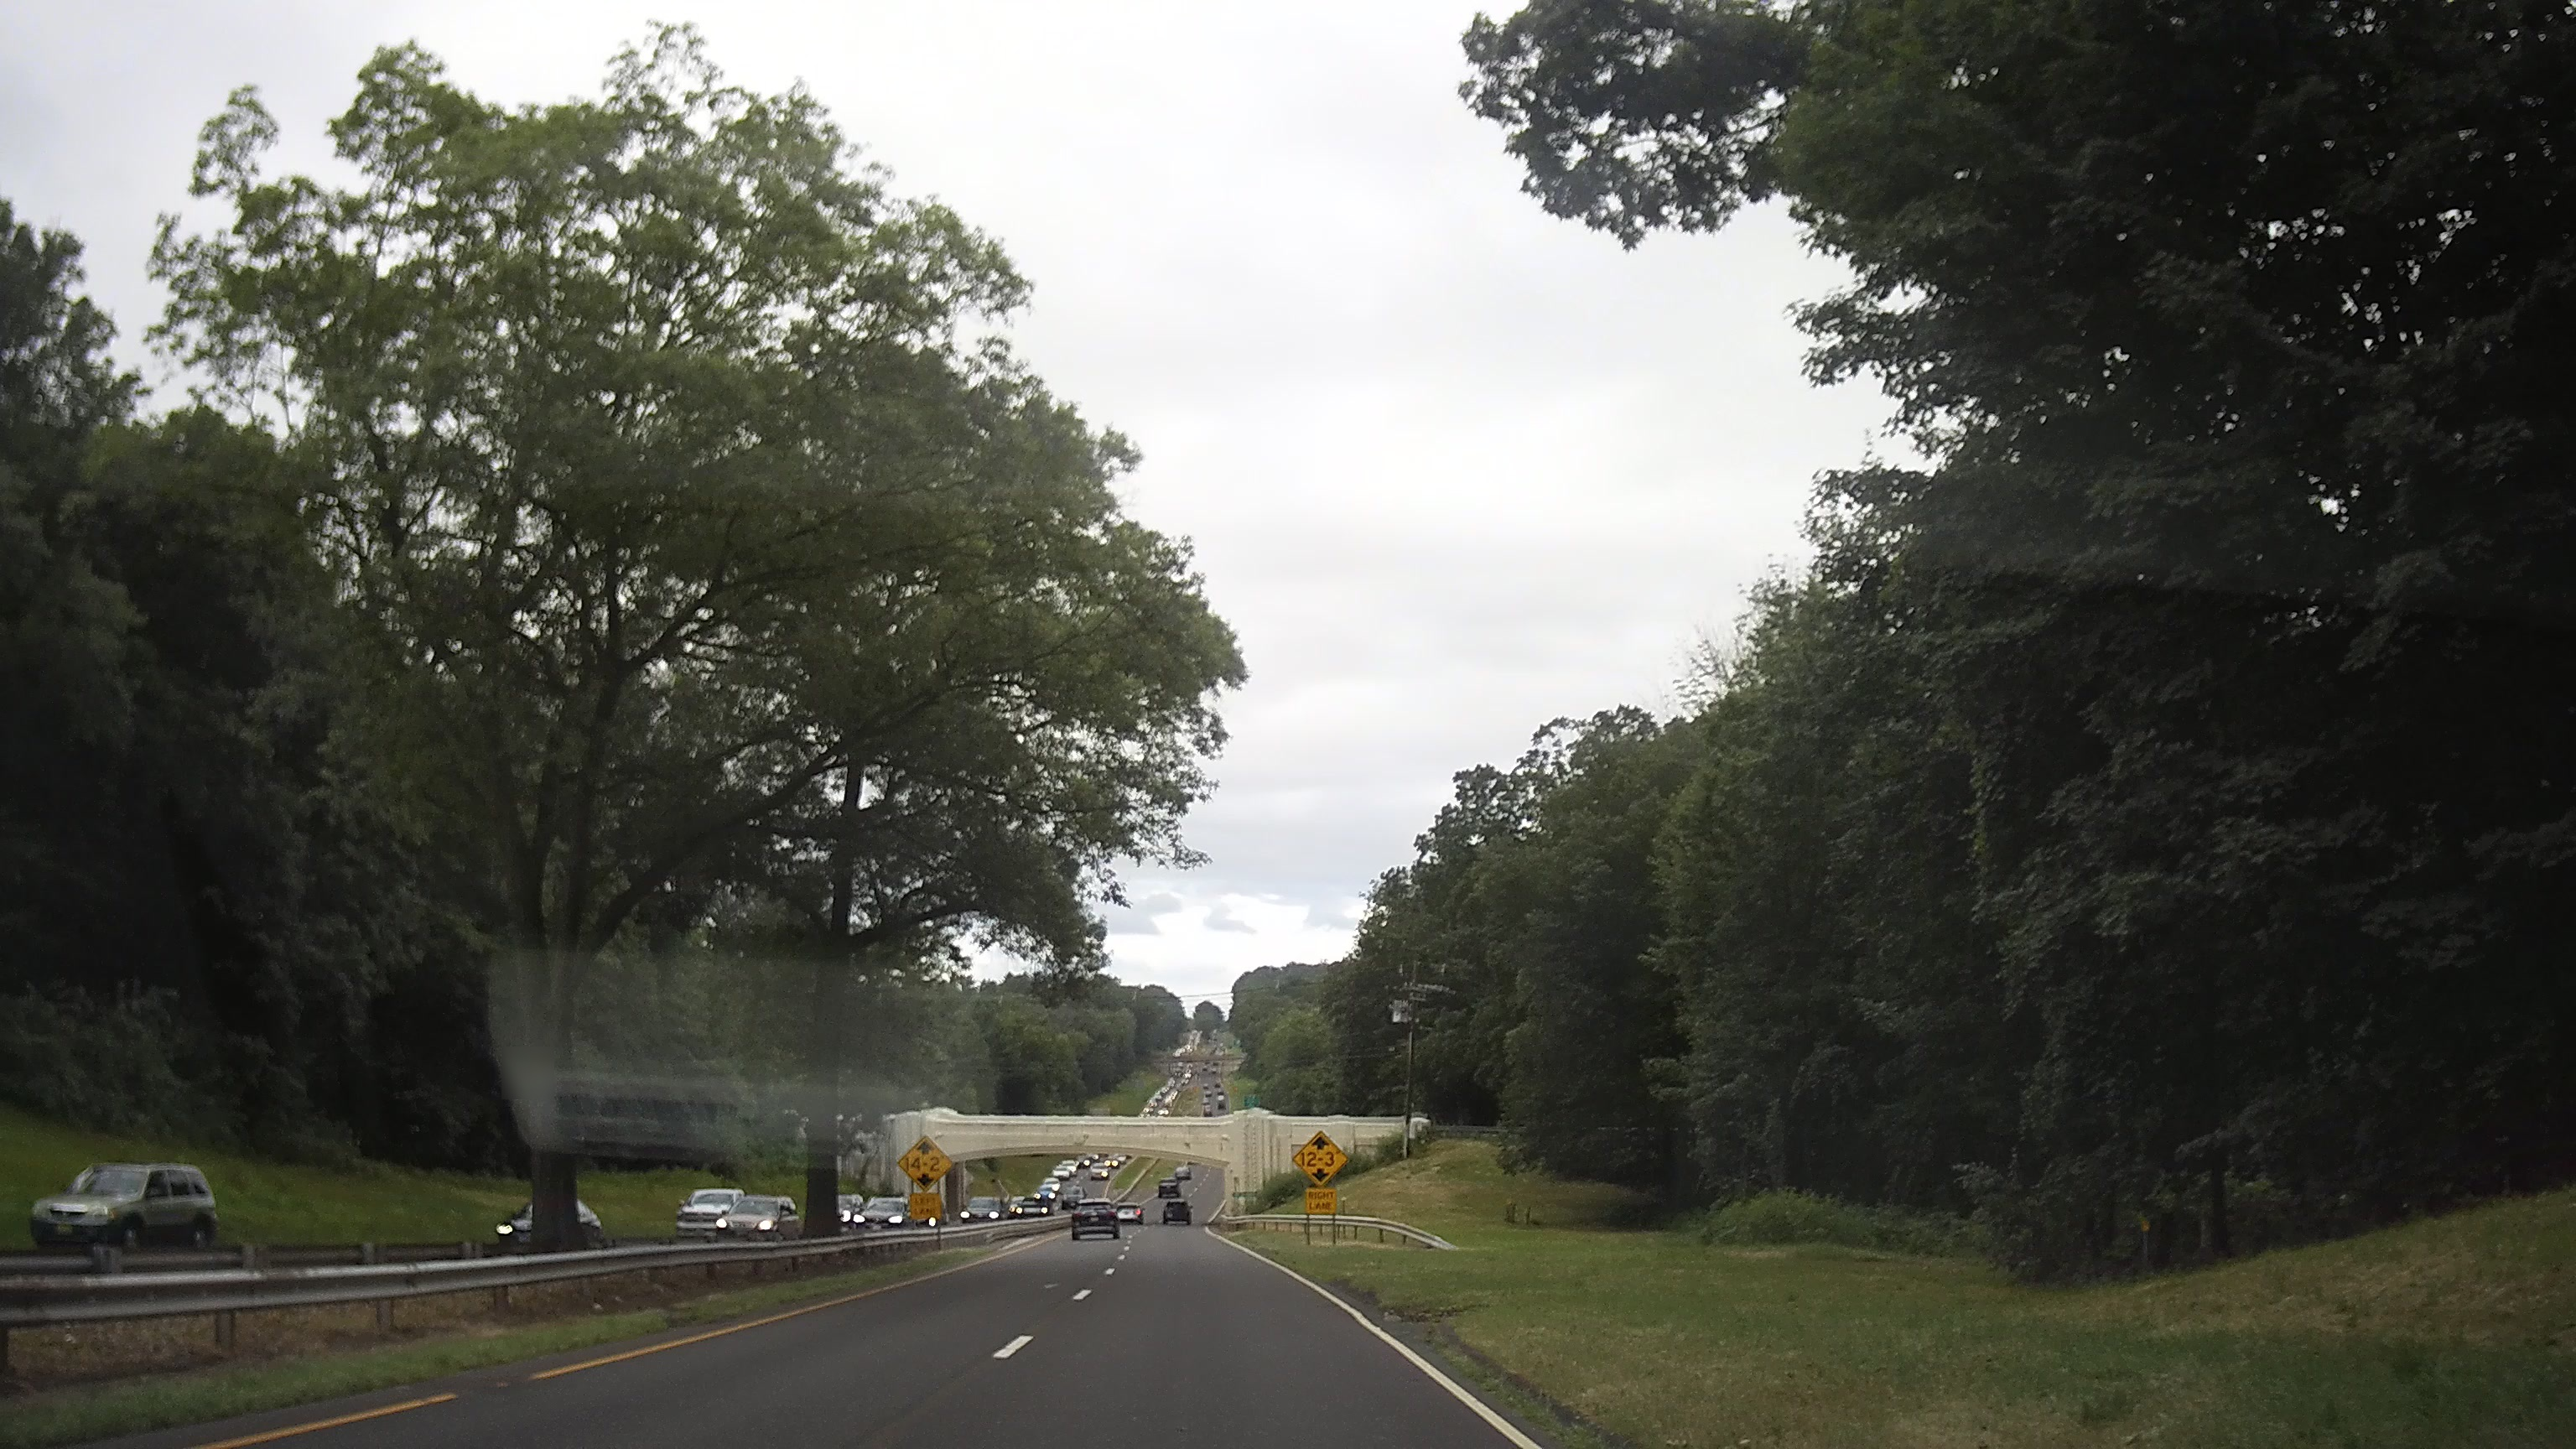low-clearance-sign: (897, 1134, 955, 1192), (1292, 1131, 1350, 1189)
